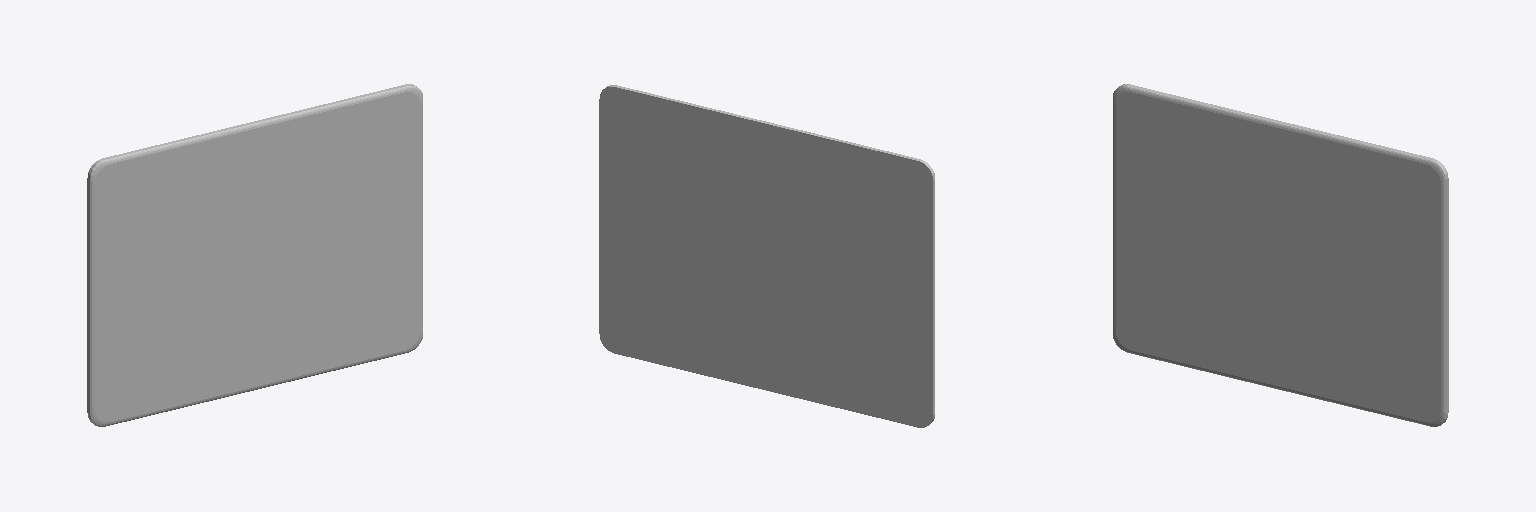
The model's file is UI_button4.obj.
3 renders of one model, left to right at view 1: azimuth 30°, elevation 25°; view 2: azimuth 150°, elevation 25°; view 3: azimuth 330°, elevation 25°, orthographic.
Parts seen in each view (by area): view 1: UI_button4; view 2: UI_button4; view 3: UI_button4.
Part boxes in pixels (x1,y1,x2,y2): UI_button4: (87, 84, 422, 426); UI_button4: (599, 85, 934, 427); UI_button4: (1113, 84, 1448, 426).
Bounding box in the file's own units: 0.2086 × 0.1593 × 0.0037.